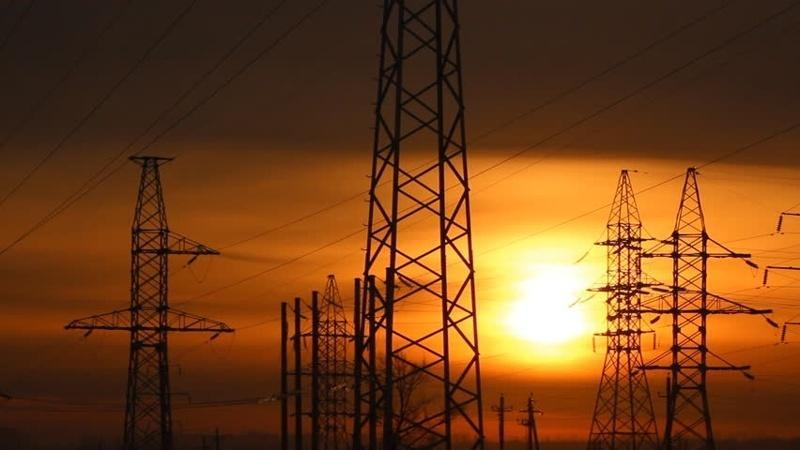power_tower: (348, 2, 488, 449), (60, 155, 236, 450), (620, 168, 776, 450), (571, 168, 678, 450), (280, 272, 385, 450)
